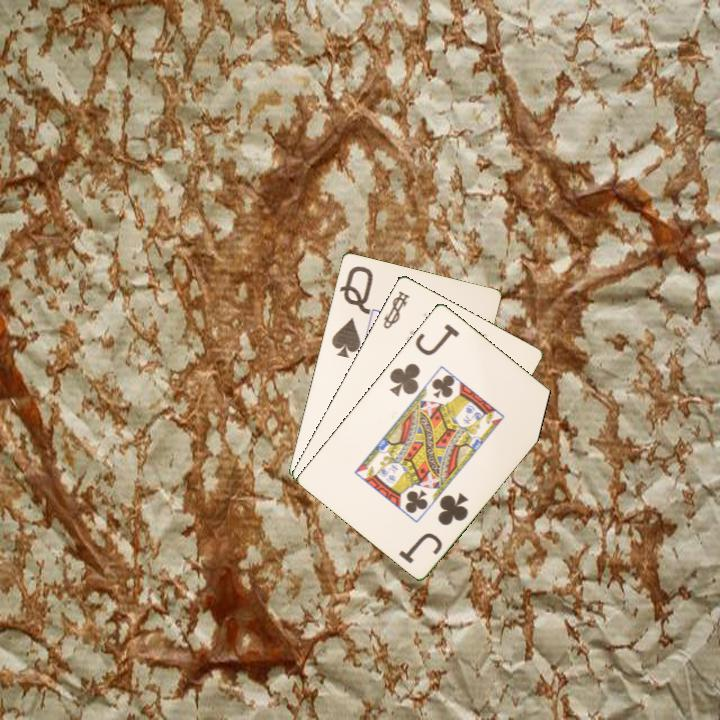JK: (379, 287, 412, 331)
Jc: (386, 320, 462, 399), (395, 488, 471, 566)
Qs: (328, 262, 376, 360)
